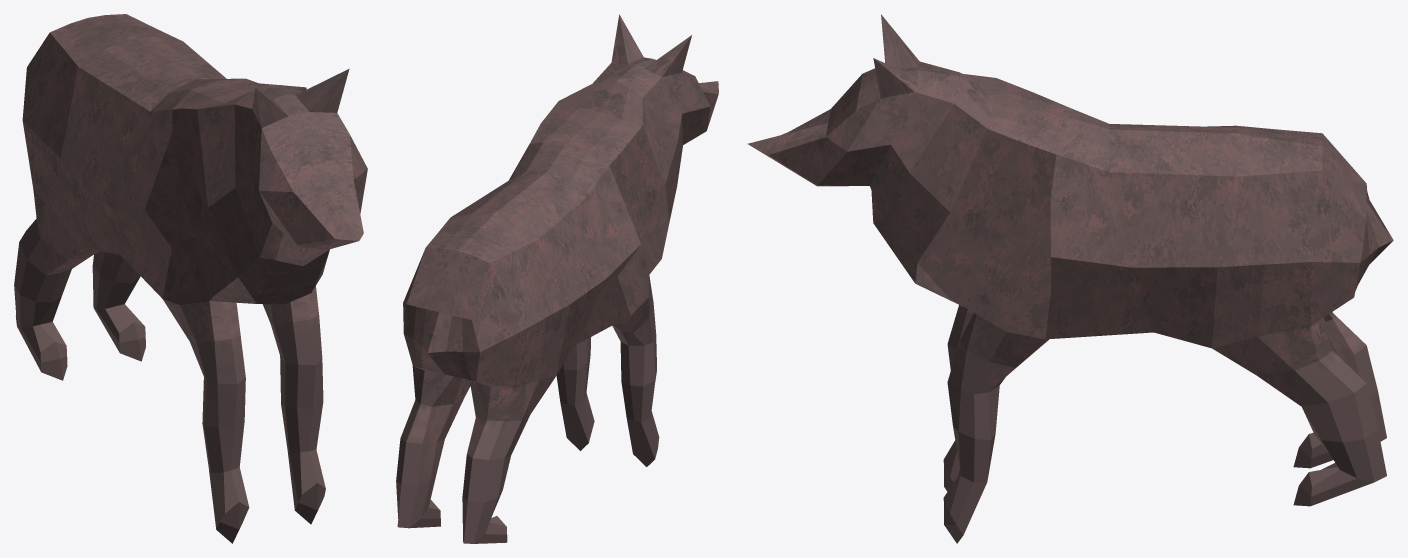
File: piesblendtex_000005.obj
The picture shows the model from 3 angles, left to right: view 1: azimuth 30°, elevation 25°; view 2: azimuth 150°, elevation 25°; view 3: azimuth 270°, elevation 25°; orthographic projection. The views are drawn at different scales.
Parts seen in each view (by area): view 1: Cube; view 2: Cube; view 3: Cube.
Boxes of the visible parts, box(x1,y1,x2,y2) form: Cube: box(14, 14, 367, 543); Cube: box(396, 14, 718, 543); Cube: box(747, 14, 1393, 543).
Size of the model in its own units: 2.56 by 7.45 by 9.01.
